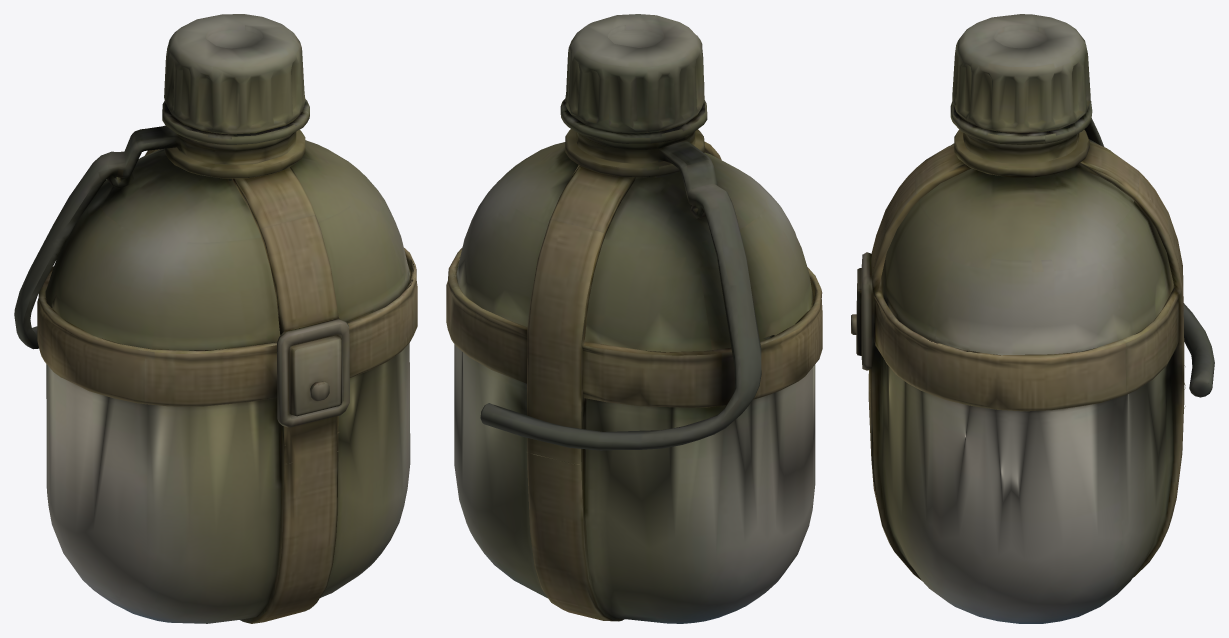
File: military_canteen.glb
The picture shows the model from 3 angles, left to right: view 1: azimuth 30°, elevation 25°; view 2: azimuth 150°, elevation 25°; view 3: azimuth 270°, elevation 25°; orthographic projection.
Visible parts, largest first — view 1: material_Material.002_0; view 2: material_Material.002_0; view 3: material_Material.002_0.
Boxes of the visible parts, bbox=[...] form: material_Material.002_0: bbox=[14, 14, 417, 623]; material_Material.002_0: bbox=[446, 14, 822, 623]; material_Material.002_0: bbox=[851, 14, 1214, 623].
Bounding box in the file's own units: 1.21 × 1.9 × 1.14.
Materials: 1 (1 with a texture image).
